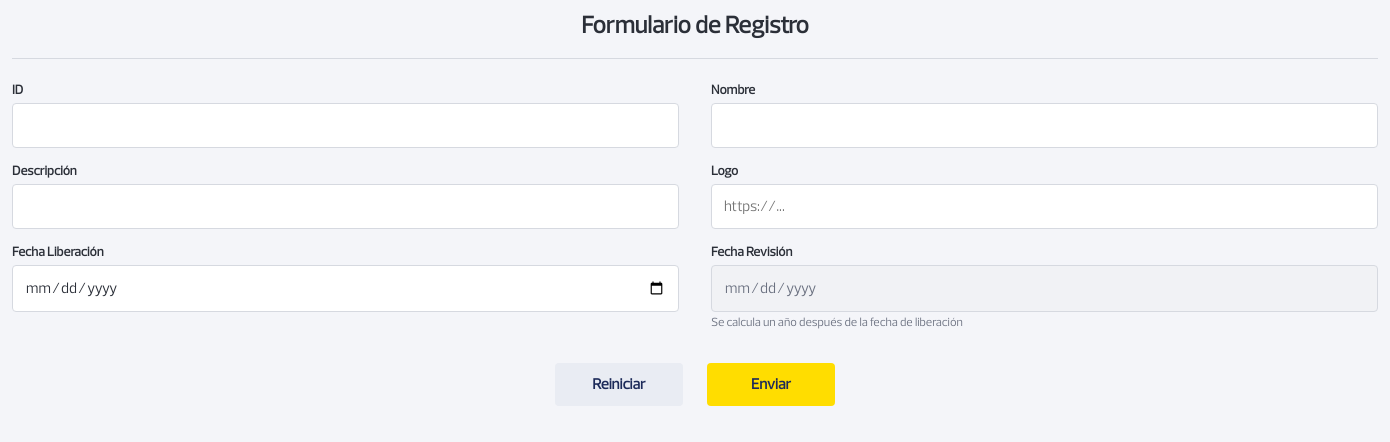
Scenario: ProductFormComponent › should show an error when id is "ab"
The width and height of the screenshot is (1390, 442).
Type "ab" into the field labelled "ID" at (346, 126), box top-left (12, 103), bottom-right (679, 148)
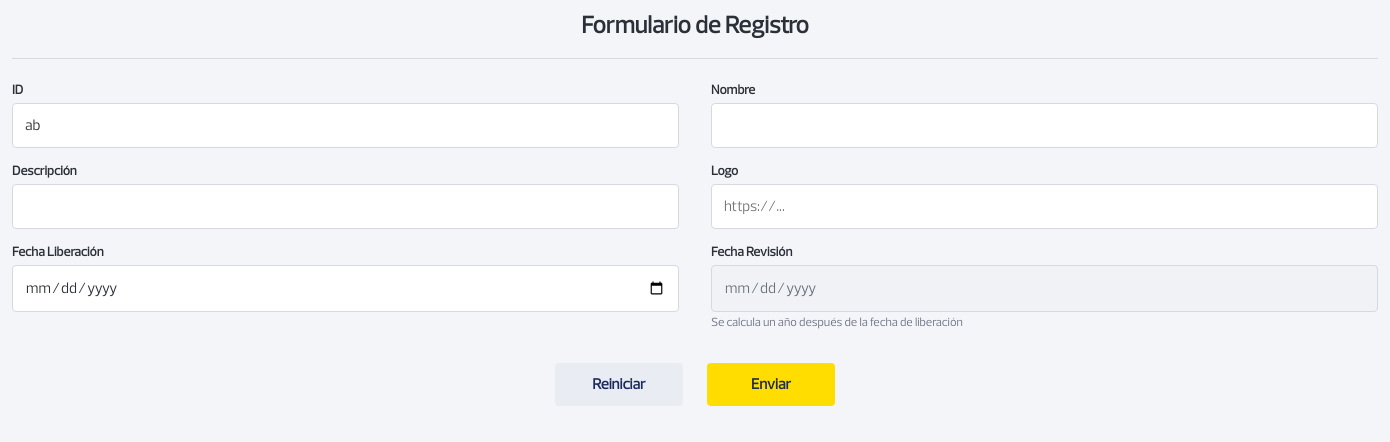
Leave the field labelled "ID", box top-left (12, 103), bottom-right (679, 148)
Wait 300 ms
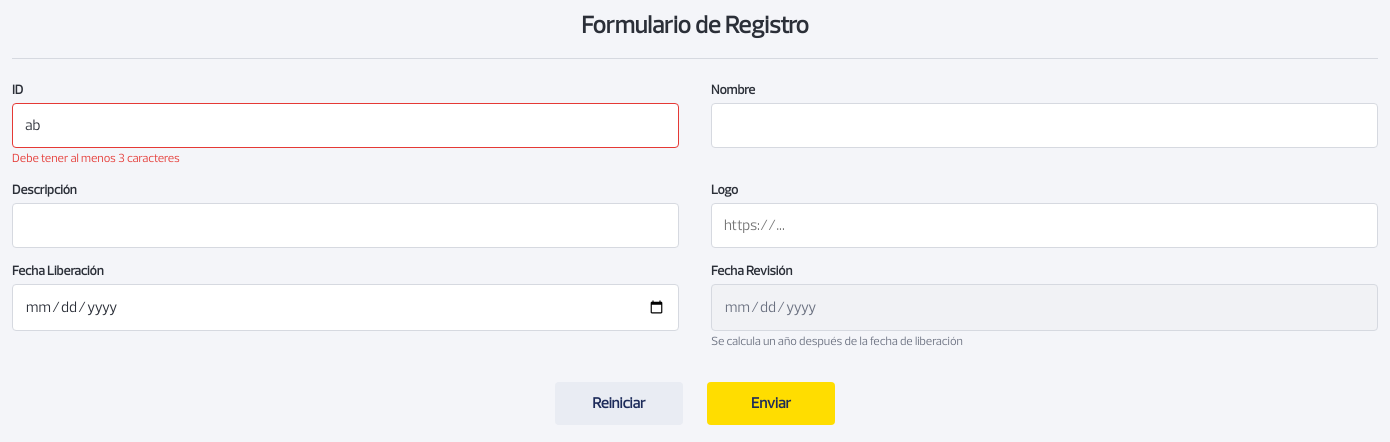
Now the text "Debe tener al menos 3 caracteres" is shown, box top-left (12, 153), bottom-right (180, 165)
